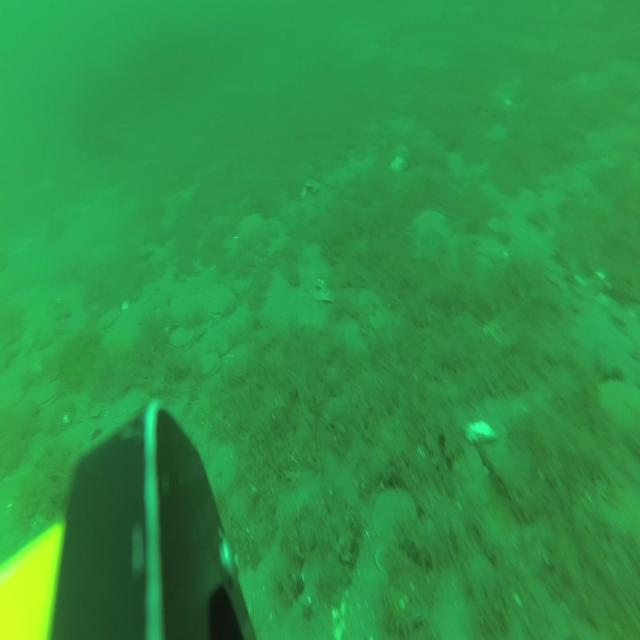scallop: (597, 377, 640, 431), (374, 491, 418, 538), (36, 378, 61, 411), (210, 288, 233, 316), (200, 352, 220, 379), (170, 326, 193, 348), (99, 309, 117, 330)
starfish: (409, 209, 450, 260), (236, 215, 266, 251)
